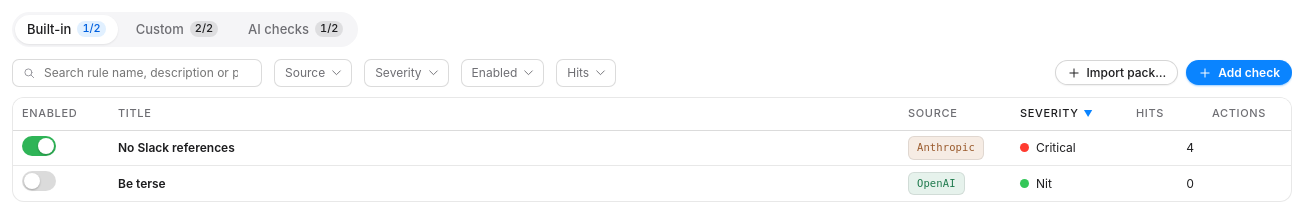
it: ChecksLibrary › puts the switch back and says so when the write does not land
expect the table is shown: met, box [13,98,1291,200]
Click the switch named "Enable No Slack references" at coordinates (39, 146), box [22,136,56,156]
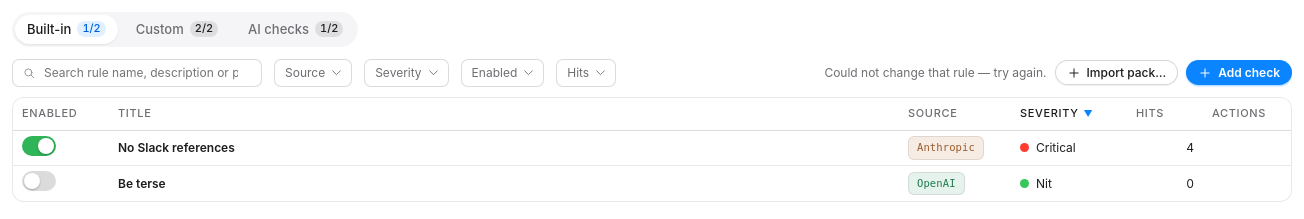
expect the message shows "Could not change that rule": met, box [824,65,1047,80]
